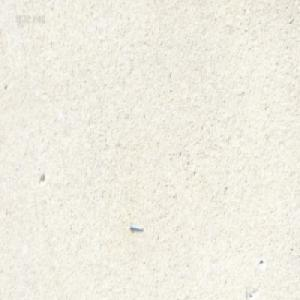Nail: (128, 222, 143, 231)
